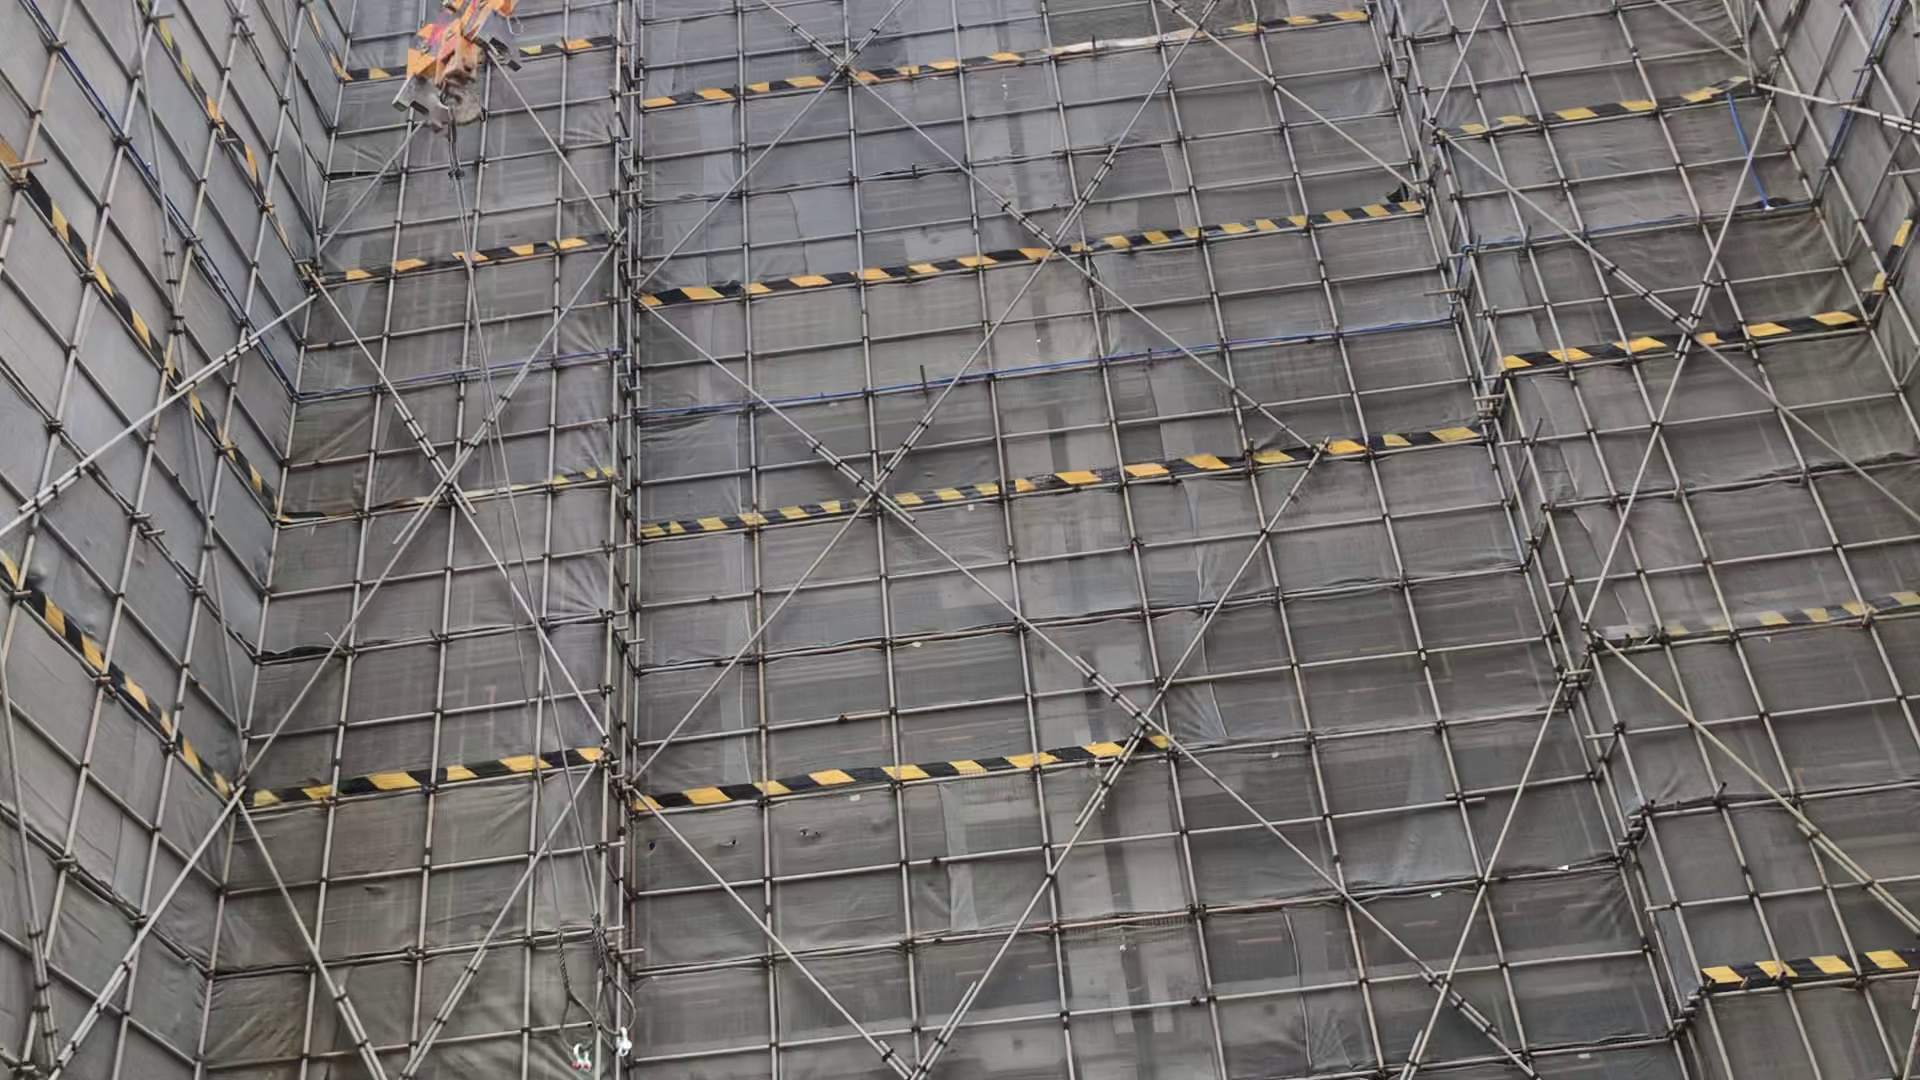hook: (394, 1, 518, 150)
